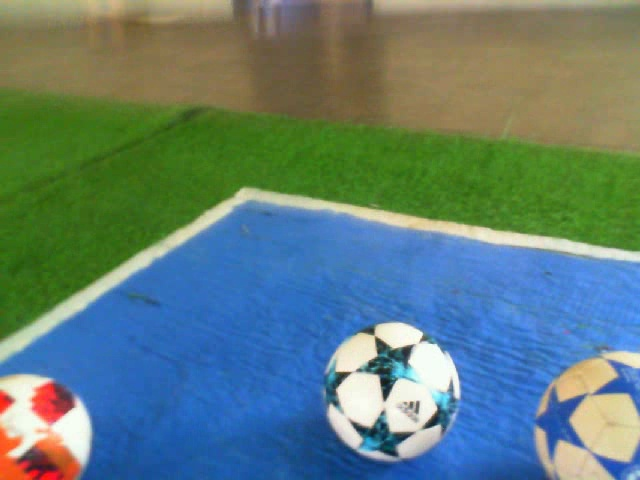ball: (317, 317, 465, 466), (530, 346, 640, 480), (1, 369, 97, 480)
